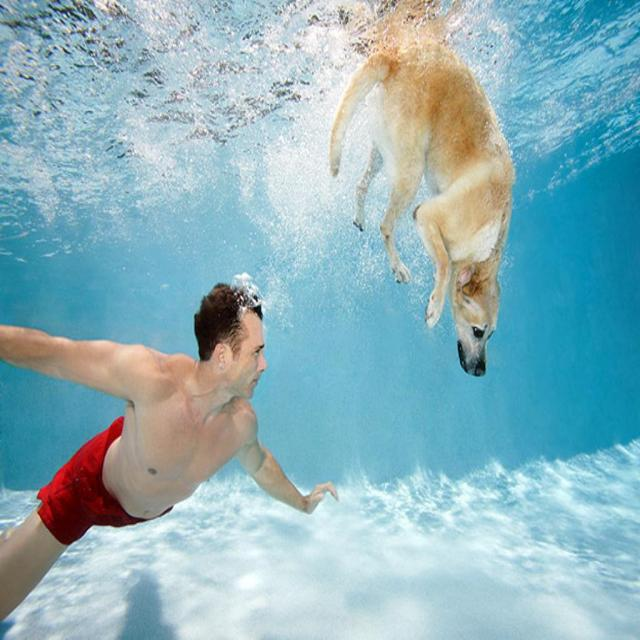nomask: (228, 312, 268, 396)
